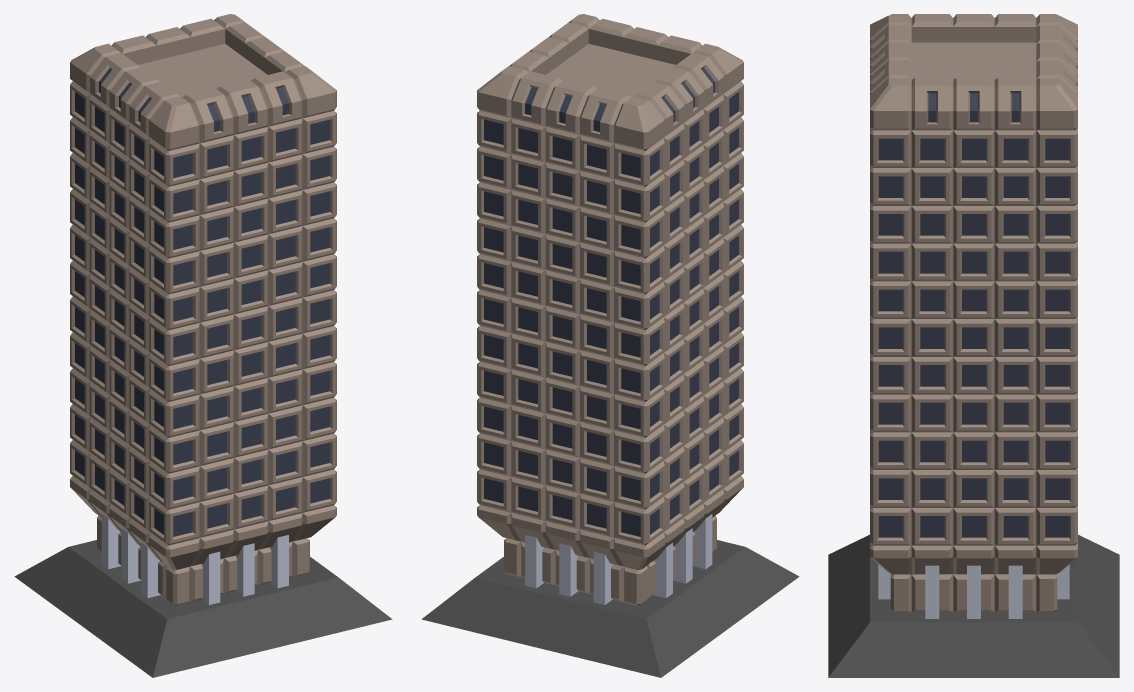
Rendered from building_1.fbx.
The picture shows the model from 3 angles, left to right: view 1: azimuth 30°, elevation 25°; view 2: azimuth 150°, elevation 25°; view 3: azimuth 270°, elevation 25°; orthographic projection. The views are drawn at different scales.
Parts seen in each view (by area): view 1: Complete, Ruin_2, Ruin_4, Ruin_3; view 2: Complete, Ruin_4, Ruin_2, Ruin_1, Ruin_3; view 3: Complete, Ruin_1, Ruin_2, Ruin_4, Ruin_3.
Boxes of the visible parts, x1,y1,x2,y2 form: Complete: [14, 14, 392, 677]; Ruin_2: [71, 360, 335, 586]; Ruin_4: [70, 29, 335, 295]; Ruin_3: [70, 235, 335, 427]; Complete: [421, 14, 799, 677]; Ruin_4: [478, 29, 743, 294]; Ruin_2: [479, 333, 743, 597]; Ruin_1: [476, 540, 743, 676]; Ruin_3: [478, 243, 743, 435]; Complete: [828, 14, 1119, 677]; Ruin_1: [829, 535, 1118, 677]; Ruin_2: [873, 432, 1074, 598]; Ruin_4: [873, 27, 1074, 279]; Ruin_3: [873, 286, 1074, 468].
Bounding box in the file's own units: 700 × 1500 × 700.
